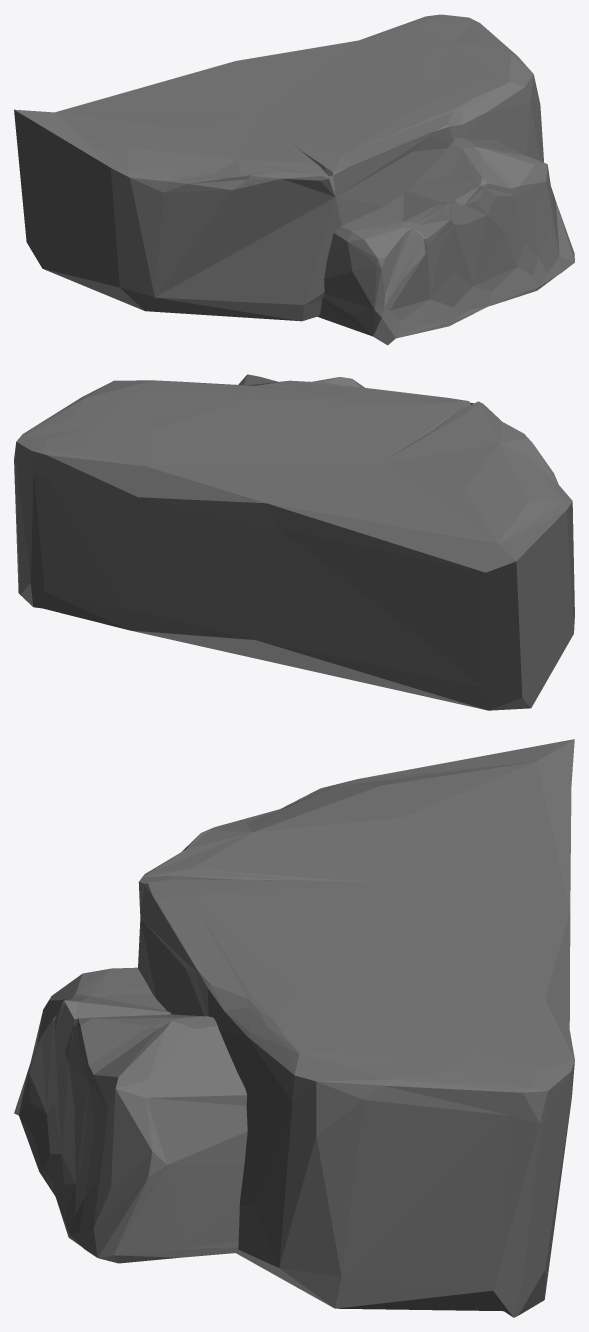
File: Rock_010.glb
The picture shows the model from 3 angles, top to bottom: view 1: azimuth 30°, elevation 25°; view 2: azimuth 150°, elevation 25°; view 3: azimuth 270°, elevation 25°; orthographic projection. The views are drawn at different scales.
Parts seen in each view (by area): view 1: Rock_010; view 2: Rock_010; view 3: Rock_010.
Part boxes in pixels (x1=…): Rock_010: x1=14, y1=14, x2=574, y2=345; Rock_010: x1=14, y1=374, x2=574, y2=710; Rock_010: x1=14, y1=739, x2=574, y2=1317.
Size of the model in its own units: 7.6 by 2.45 by 5.26.
Materials: 1 (1 with a texture image).
